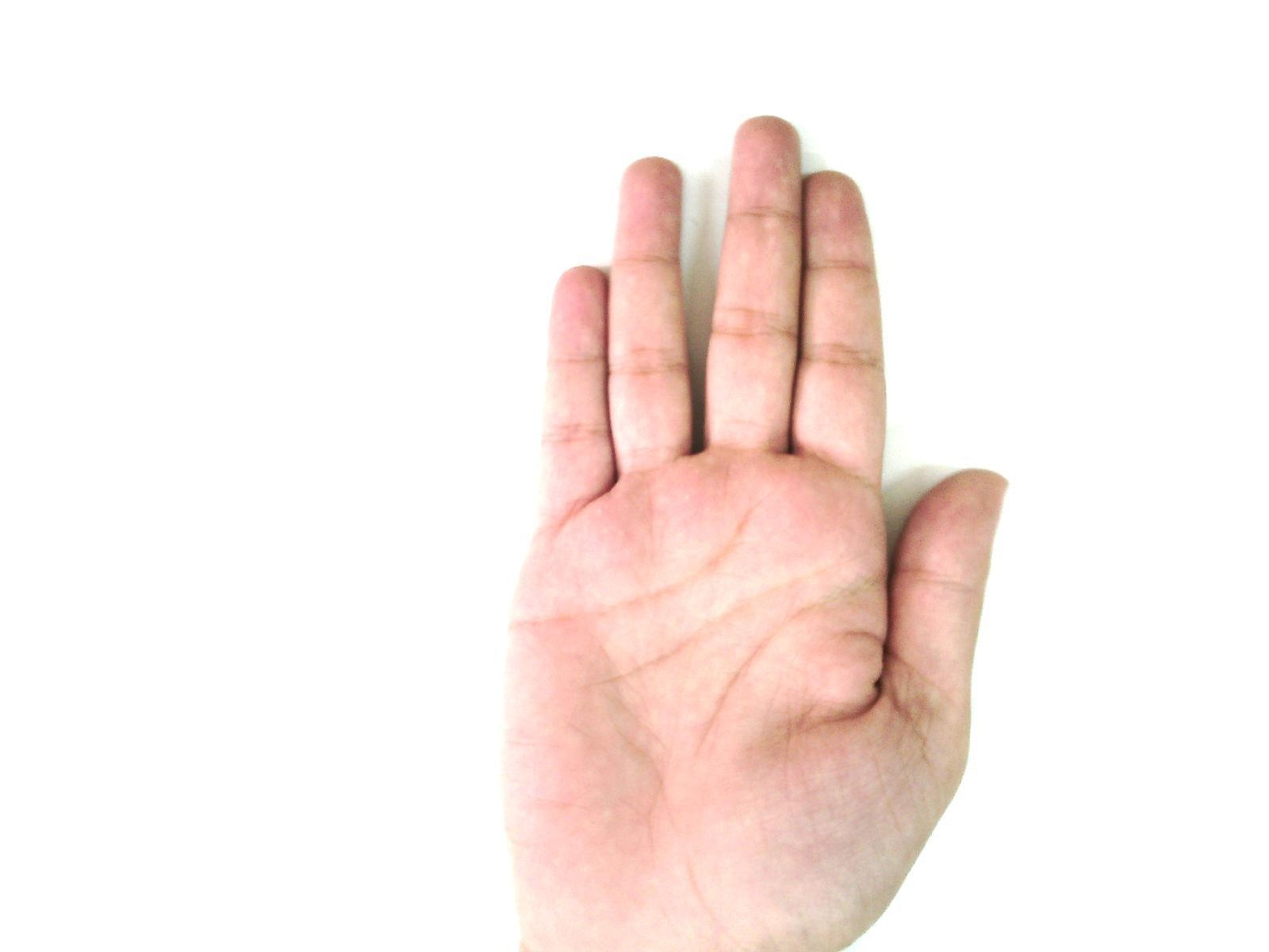open_palm: (498, 114, 1011, 951)
